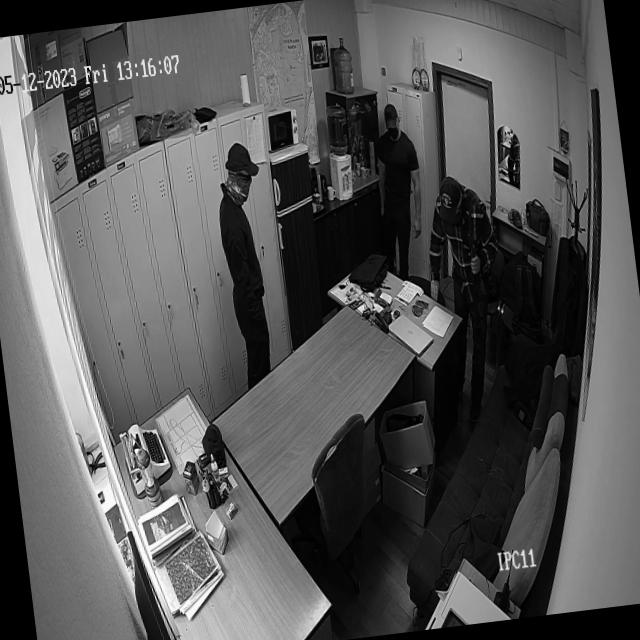gun: (458, 219, 492, 342)
person: (210, 143, 280, 390), (366, 103, 432, 270)
person with a gun: (414, 175, 518, 438)
